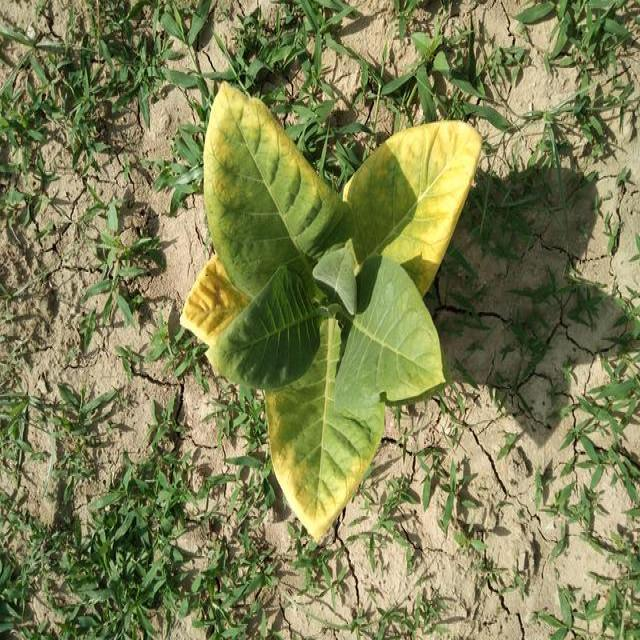crop: (179, 68, 492, 559)
